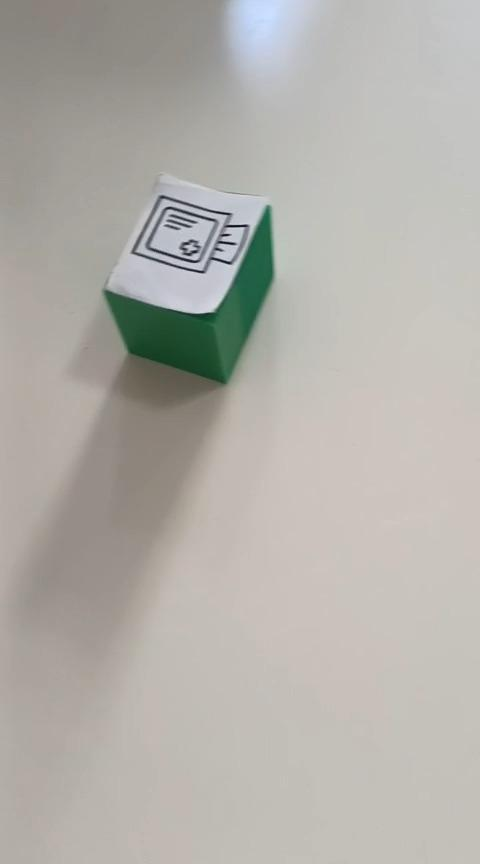Gauze: (101, 170, 275, 384)
